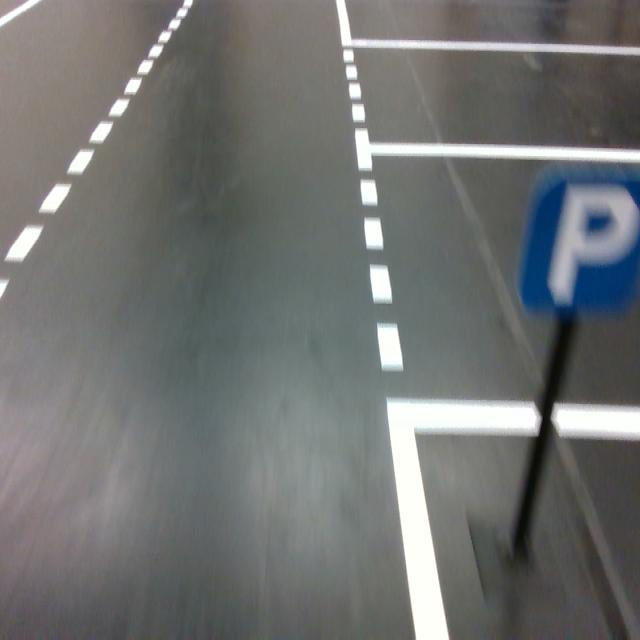parking-sign: (516, 166, 640, 314)
